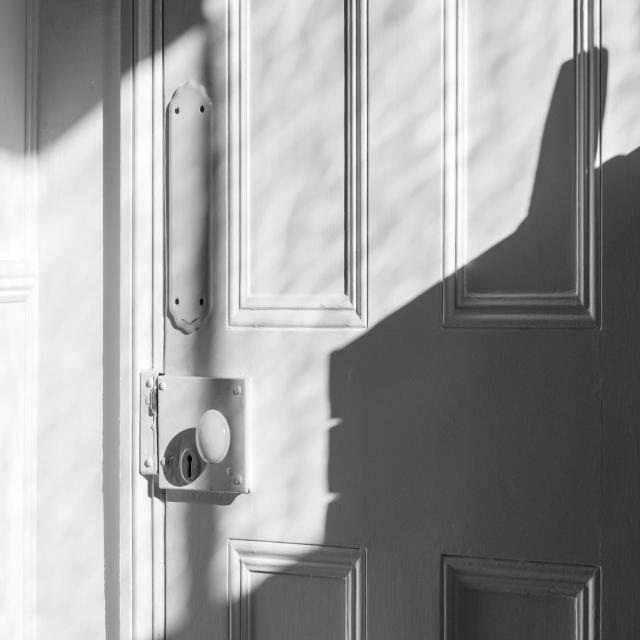door-knob: (196, 409, 230, 464)
